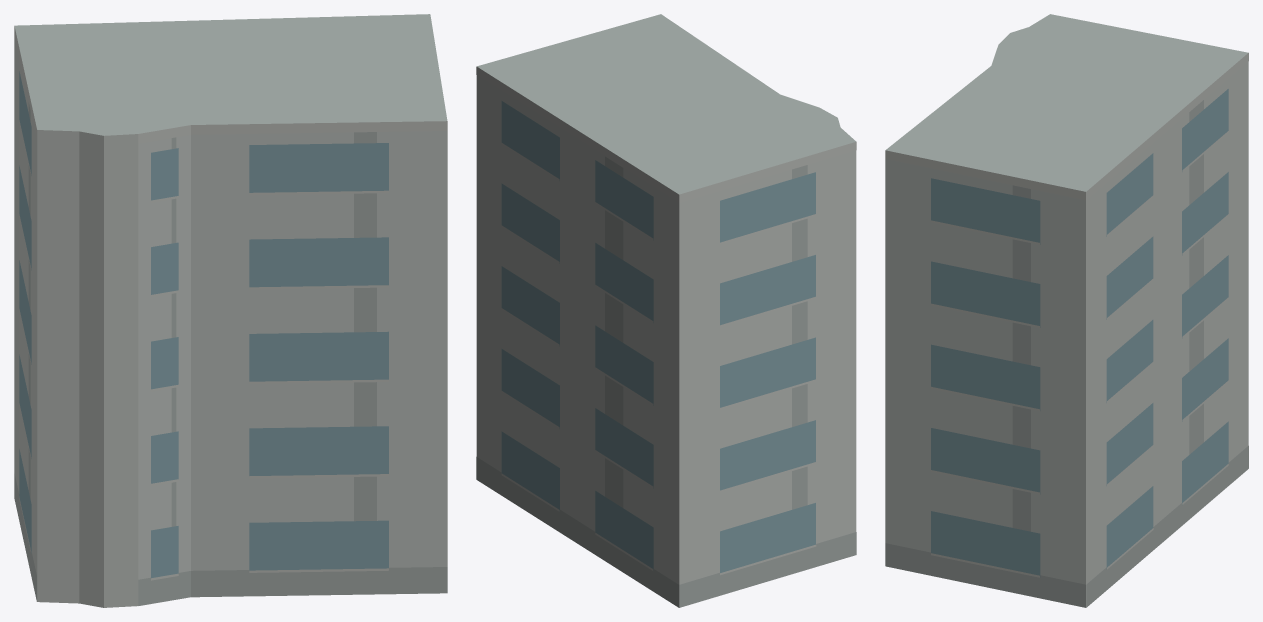
File: survey-upis-32726183.glb
The picture shows the model from 3 angles, left to right: view 1: azimuth 30°, elevation 25°; view 2: azimuth 150°, elevation 25°; view 3: azimuth 270°, elevation 25°; orthographic projection. The views are drawn at different scales.
Visible parts, largest first — view 1: survey-upis-32726183.tmp; view 2: survey-upis-32726183.tmp; view 3: survey-upis-32726183.tmp.
Boxes of the visible parts, x1=… form: survey-upis-32726183.tmp: x1=14, y1=14, x2=447, y2=607; survey-upis-32726183.tmp: x1=476, y1=14, x2=856, y2=607; survey-upis-32726183.tmp: x1=885, y1=14, x2=1248, y2=607.
Size of the model in its own units: 10.74 by 11.7 by 9.27.
